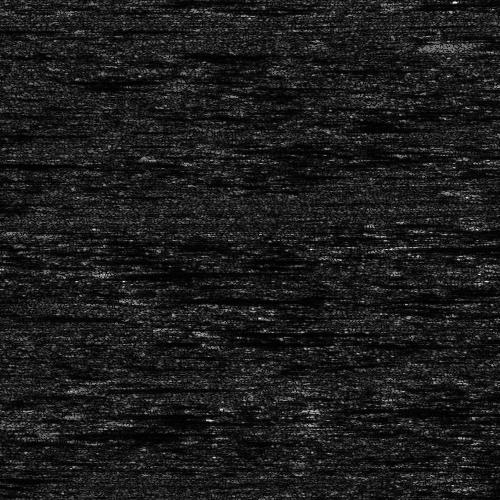rock: (73, 266, 156, 277), (28, 427, 81, 438), (110, 292, 173, 301), (392, 40, 465, 47), (93, 416, 146, 425), (61, 385, 134, 390), (462, 483, 500, 490), (429, 188, 492, 191), (0, 314, 21, 319), (0, 161, 14, 168), (299, 407, 330, 410)
shadow: (55, 427, 238, 438), (115, 266, 271, 277), (120, 416, 249, 425), (142, 292, 270, 301), (98, 385, 226, 390), (0, 161, 78, 168), (429, 40, 500, 47), (315, 407, 459, 410), (0, 314, 84, 319), (483, 483, 500, 490), (461, 188, 500, 191)
